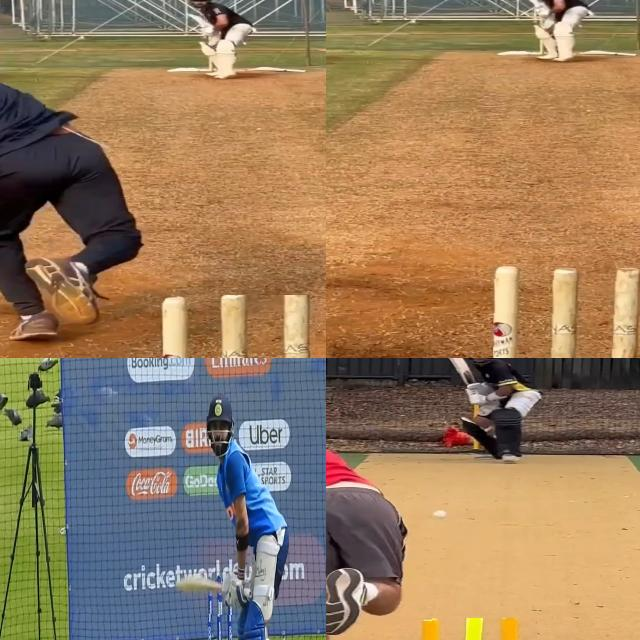Cricket ball: (431, 509, 447, 519)
Stumps: (493, 262, 640, 358), (158, 295, 314, 358), (208, 596, 237, 640)
